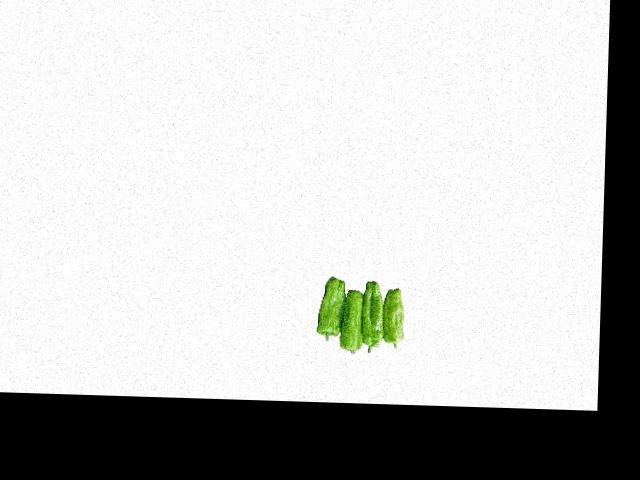bell_pepper: (316, 271, 346, 344)
